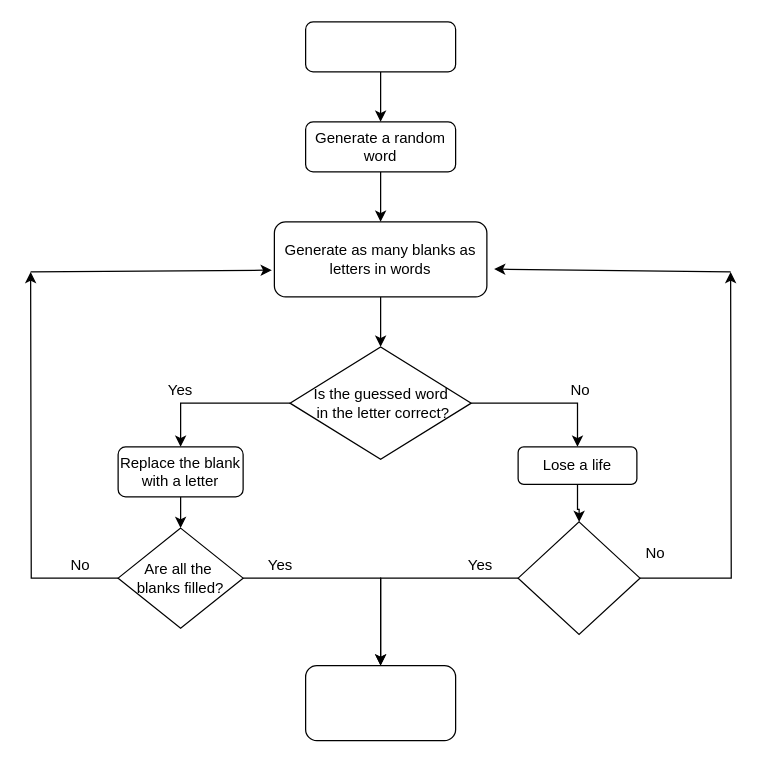
Image size: 764x763. Some labels were removed from this diagram. Here are the shapes that lost their labels. From the top down, the box of each, then its label:
(304, 21, 456, 72): START
(517, 521, 640, 634): have they run out of lifes?
(304, 664, 456, 741): Game Over
